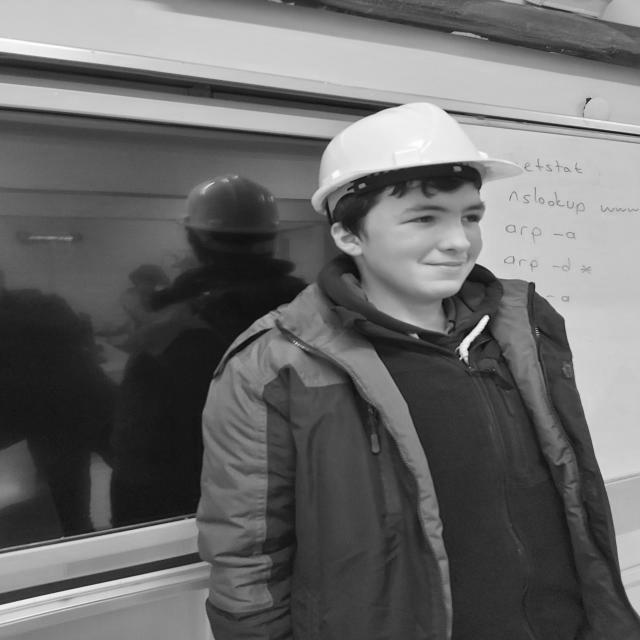construction helmet: (310, 103, 519, 218)
